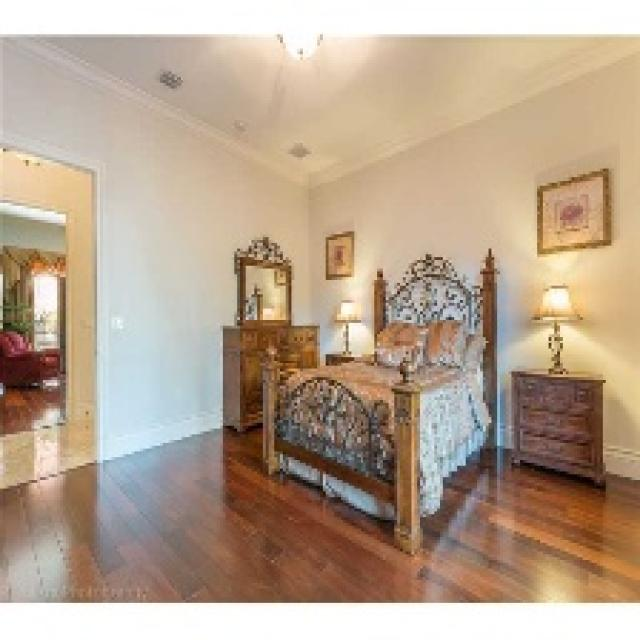Bed: (260, 246, 497, 554)
